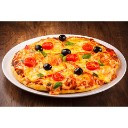pepperonipizza: (14, 37, 121, 89)
